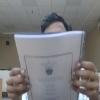notebook: (13, 30, 86, 99)
